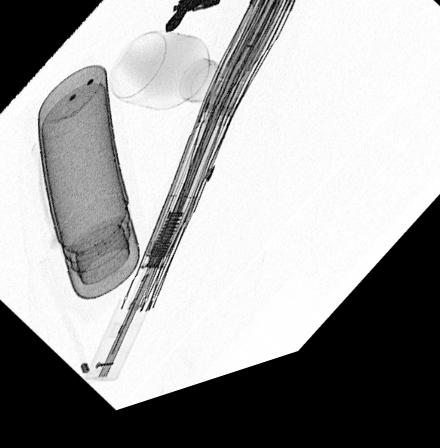Gun: (164, 0, 240, 42)
